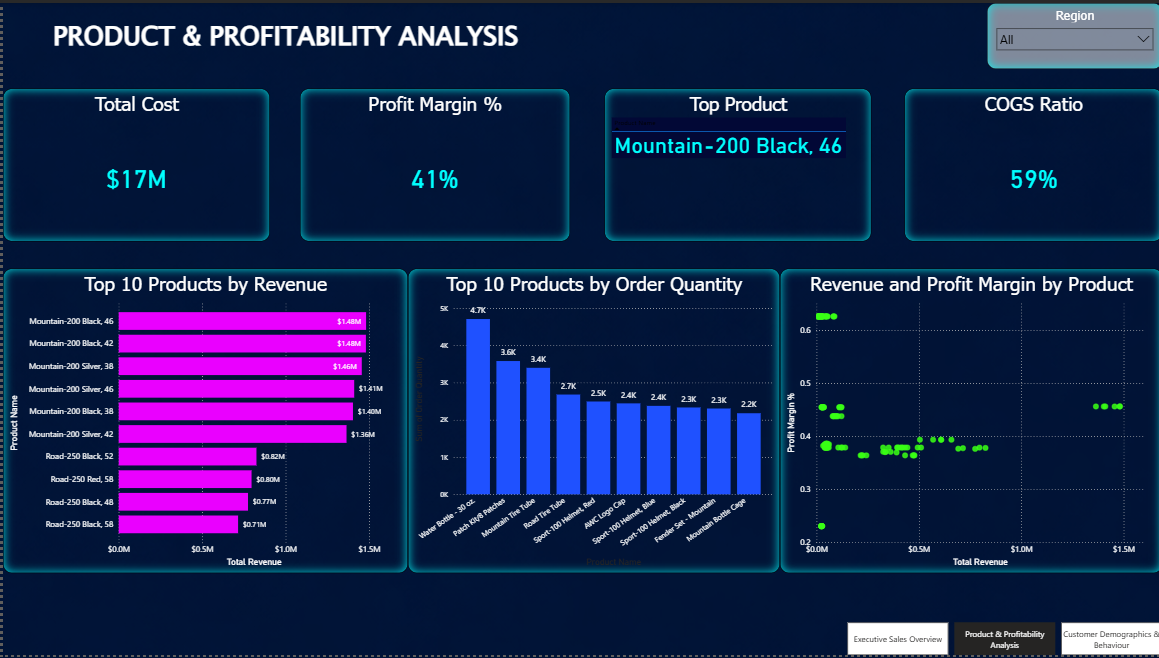

Layout of this report page (visuals, bound fields, positions):
{"tool":"powerbi","page":{"name":"Product & Profitability Analysis","canvas":[1920,1080],"ordinal":1},"visuals":[{"type":"textbox","box":[22.4,17.4,892,124.2],"z":0},{"type":"card","title":"Total Cost","fields":{"Values":["Sales.Total Cost"]},"box":[0,141.6,442.3,253.4],"z":1000},{"type":"card","title":"Profit Margin %","fields":{"Values":["Sales.Profit Margin %"]},"box":[492,141.6,447.2,253.4],"z":2000},{"type":"card","title":"COGS Ratio","fields":{"Values":["Sales.Cost of Goods Ratio"]},"box":[1493.3,141.6,427.4,253.4],"z":3000},{"type":"clusteredColumnChart","title":"Top 10 Products by Order  Quantity","fields":{"Category":["Product.Product Name"],"Y":["Sum(Sales.Order Quantity)"]},"box":[670.9,439.8,616.2,504.4],"z":4000},{"type":"scatterChart","title":"Revenue and Profit Margin by Product","fields":{"Category":["Product.Product Name"],"X":["Sales.Total Revenue"],"Y":["Sales.Profit Margin %"]},"box":[1287.1,439.8,633.6,504.4],"z":5000},{"type":"pageNavigator","box":[1398.9,1026.2,521.8,54.7],"z":6000},{"type":"slicer","title":"Region","fields":{"Values":["Sales.Sales Territory Region"]},"box":[1630,0,290.7,109.3],"z":7000},{"type":"tableEx","title":"Top Product","fields":{"Values":["Product.Product Name"]},"box":[996.4,141.6,442.3,253.4],"z":10000},{"type":"clusteredBarChart","title":"Top 10 Products by Revenue","fields":{"Category":["Product.Product Name"],"Y":["Sales.Total Revenue"]},"box":[0,439.8,670.9,504.4],"z":11000}]}

Visuals, with their boxes in screenshot pixels (x1, y1, x2, y2), scaled from the page's 1920x1080 canvas onto the 1159x658 screenshot:
textbox: 14,11,552,86
"Total Cost" card: 0,86,267,241
"Profit Margin %" card: 297,86,567,241
"COGS Ratio" card: 901,86,1158,241
"Top 10 Products by Order  Quantity" clusteredColumnChart: 405,268,777,575
"Revenue and Profit Margin by Product" scatterChart: 777,268,1158,575
pageNavigator: 844,625,1158,657
"Region" slicer: 984,0,1158,67
"Top Product" tableEx: 601,86,868,241
"Top 10 Products by Revenue" clusteredBarChart: 0,268,405,575
